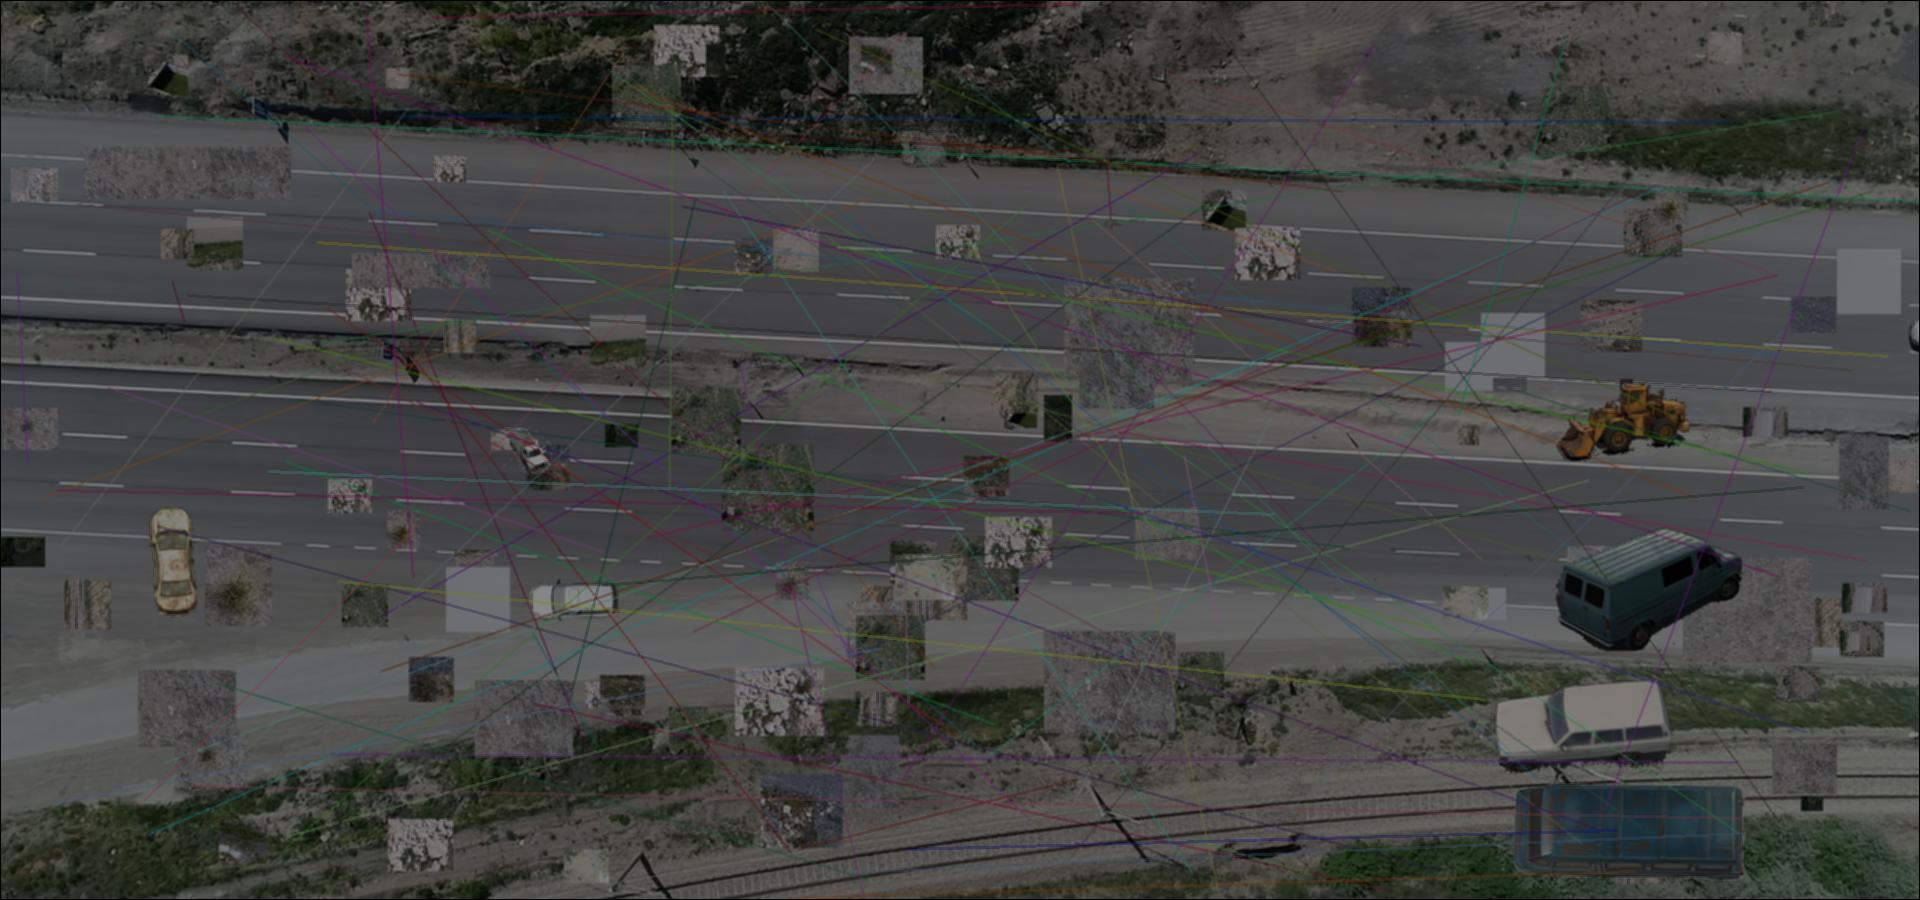arac: (1506, 774, 1750, 885), (1556, 522, 1742, 651), (1490, 680, 1675, 775), (1553, 373, 1695, 460), (148, 506, 200, 617), (530, 579, 620, 623), (504, 425, 552, 474)
